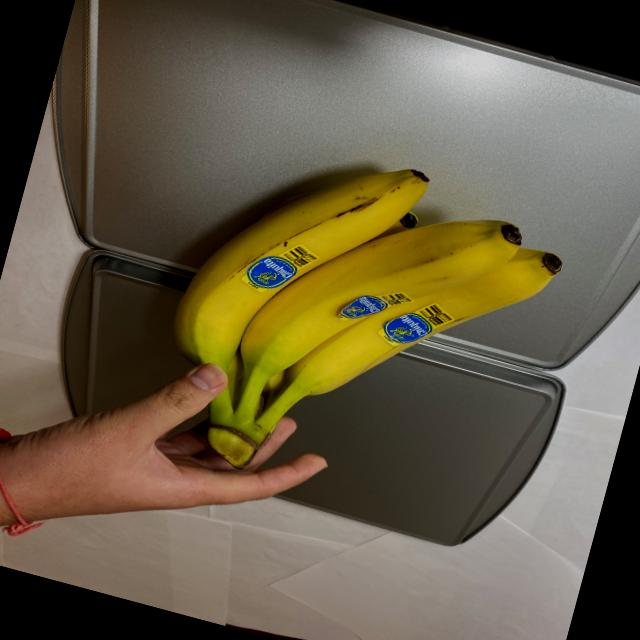banana: (136, 119, 578, 536)
